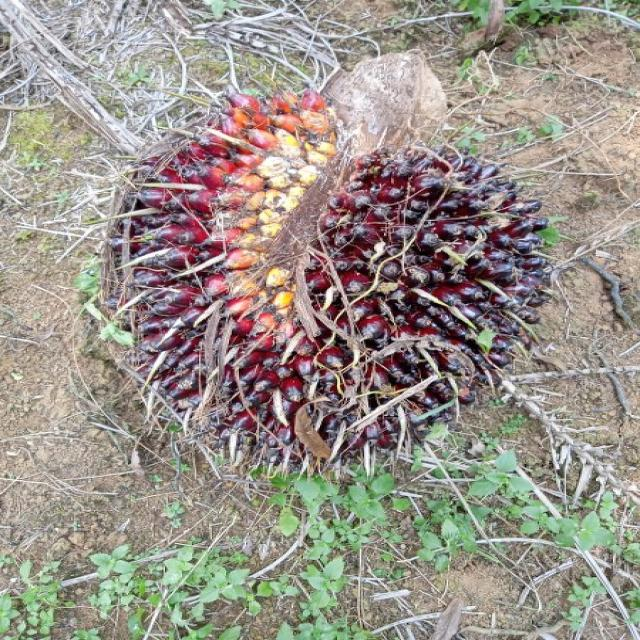fraksi 1: (59, 82, 583, 508)
